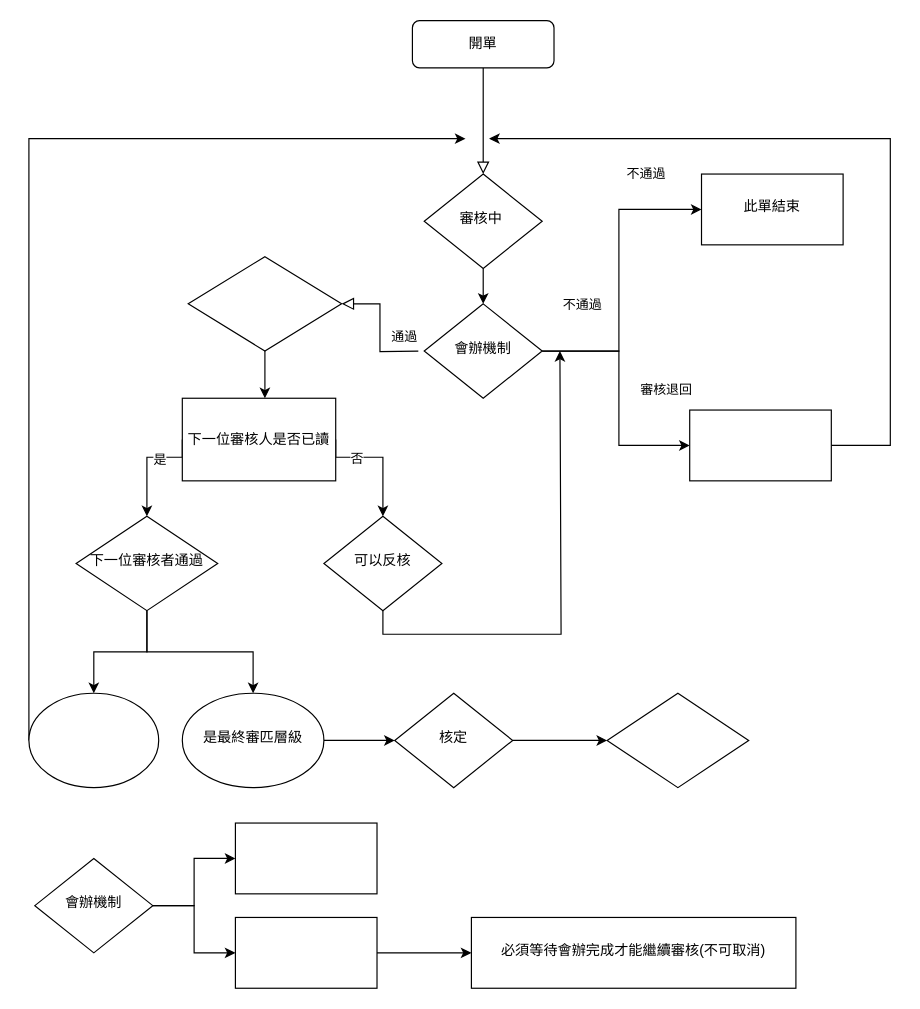
Some shapes in this 920 by 1009 pixel diagram are drawn without their labels. Each missing label, with the centre of its shape:
不是最終審匹層級: (x=93, y=740)
建立會辦: (x=305, y=858)
找下一位審核人: (x=264, y=303)
發起會辦: (x=305, y=952)
等待結單人結案: (x=677, y=740)
返回給上一人 或審核鏈上的某一人: (x=760, y=445)
